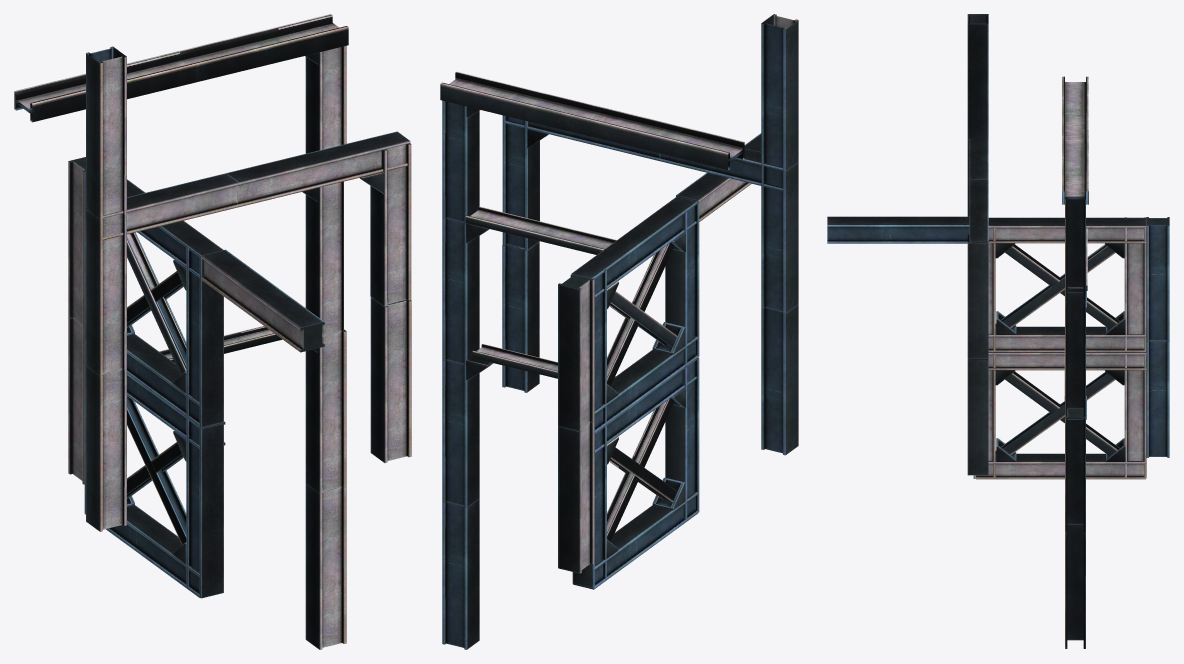
Rendered from Beams_033.fbx.
3 views of the same model, side by side, from view 1: azimuth 30°, elevation 25°; view 2: azimuth 150°, elevation 25°; view 3: azimuth 270°, elevation 25° (orthographic). The views are drawn at different scales.
Parts seen in each view (by area): view 1: Beam_Tavric__11_; view 2: Beam_Tavric__11_; view 3: Beam_Tavric__11_.
Part boxes in pixels (left/top/right/bottom): Beam_Tavric__11_: left=14, top=14, right=411, bottom=649; Beam_Tavric__11_: left=440, top=14, right=798, bottom=649; Beam_Tavric__11_: left=827, top=14, right=1169, bottom=648.
Size of the model in its own units: 438 by 931 by 552.
2 materials, 2 textured.
